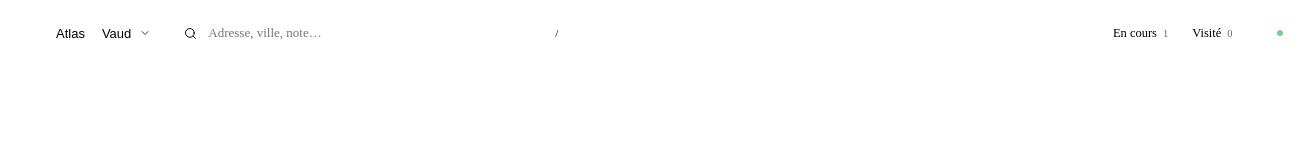
Scenario: TopBar profile chooser › closes the chooser when clicking the active profile
Click the button with aria-label "choisir un profil" at (89, 33), box top-left (16, 16), bottom-right (161, 50)
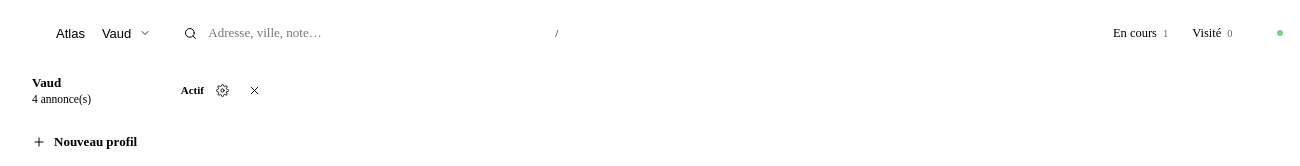
Click the menu item "Vaud 4 annonce(s)" at (101, 90), box top-left (26, 68), bottom-right (177, 112)
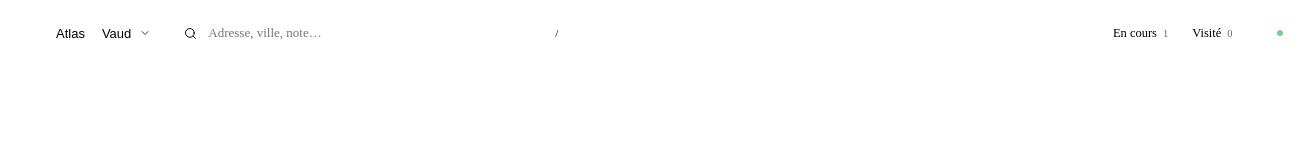
expect the menu is gone: met
